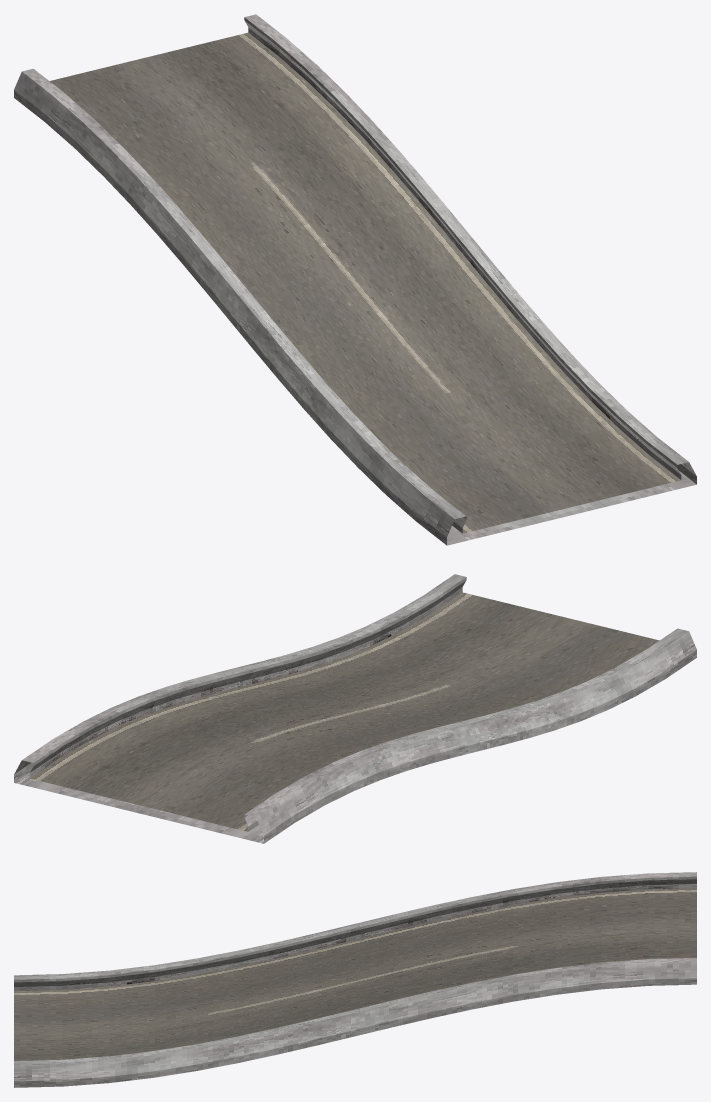
File: road-Straight-Flat-Flat-Up2-Center-Size3.glb
The picture shows the model from 3 angles, top to bottom: view 1: azimuth 30°, elevation 25°; view 2: azimuth 150°, elevation 25°; view 3: azimuth 270°, elevation 25°; orthographic projection. The views are drawn at different scales.
Visible parts, largest first — view 1: road-Straight-Flat-Flat-Up2-Center-Size3; view 2: road-Straight-Flat-Flat-Up2-Center-Size3; view 3: road-Straight-Flat-Flat-Up2-Center-Size3.
Boxes of the visible parts, left/top/right/bottom form: road-Straight-Flat-Flat-Up2-Center-Size3: left=14, top=14, right=696, bottom=545; road-Straight-Flat-Flat-Up2-Center-Size3: left=14, top=574, right=696, bottom=843; road-Straight-Flat-Flat-Up2-Center-Size3: left=14, top=872, right=696, bottom=1087.
Bounding box in the file's own units: 1 × 0.5938 × 3.
2 materials, 2 textured.
